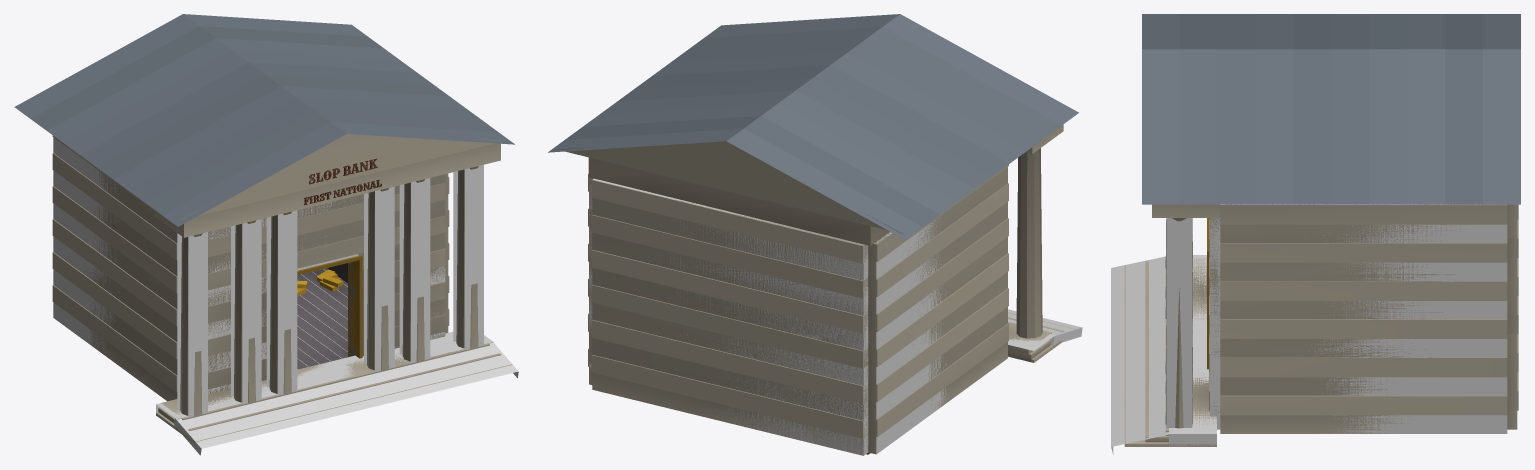
File: bank.glb
The picture shows the model from 3 angles, left to right: view 1: azimuth 30°, elevation 25°; view 2: azimuth 150°, elevation 25°; view 3: azimuth 270°, elevation 25°; orthographic projection. The views are drawn at different scales.
Visible parts, largest first — view 1: bank, COL_7, COL_5, COL_11, COL_13, COL_9, COL_14, COL_10, COL_12, COL_8, COL_0; view 2: bank, COL_4, COL_5, COL_7; view 3: bank, COL_3, COL_7, COL_14, COL_8, COL_2.
Boxes of the visible parts, bbox=[...] form: bank: bbox=[14, 14, 514, 444]; COL_7: bbox=[174, 342, 518, 455]; COL_5: bbox=[53, 137, 126, 358]; COL_11: bbox=[266, 210, 297, 395]; COL_13: bbox=[399, 178, 430, 362]; COL_9: bbox=[177, 232, 207, 417]; COL_14: bbox=[453, 164, 483, 349]; COL_10: bbox=[231, 219, 261, 404]; COL_12: bbox=[364, 186, 394, 371]; COL_8: bbox=[156, 331, 493, 419]; COL_0: bbox=[208, 218, 266, 394]; bank: bbox=[548, 14, 1078, 454]; COL_4: bbox=[593, 178, 868, 455]; COL_5: bbox=[874, 217, 950, 454]; COL_7: bbox=[1008, 309, 1082, 345]; bank: bbox=[1124, 14, 1520, 446]; COL_3: bbox=[1220, 204, 1507, 433]; COL_7: bbox=[1111, 256, 1168, 454]; COL_14: bbox=[1166, 218, 1192, 427]; COL_8: bbox=[1169, 255, 1216, 446]; COL_2: bbox=[1210, 218, 1220, 429].
Size of the model in its own units: 13.2 by 10.25 by 12.
